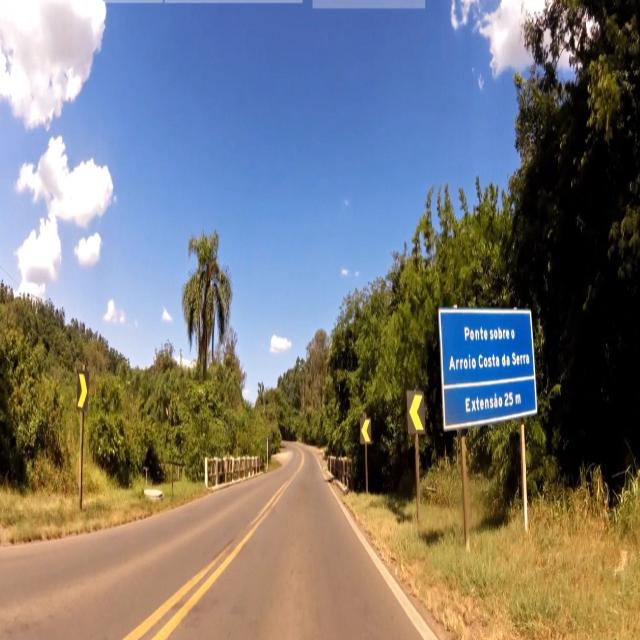LOC-6: (438, 305, 538, 415)
